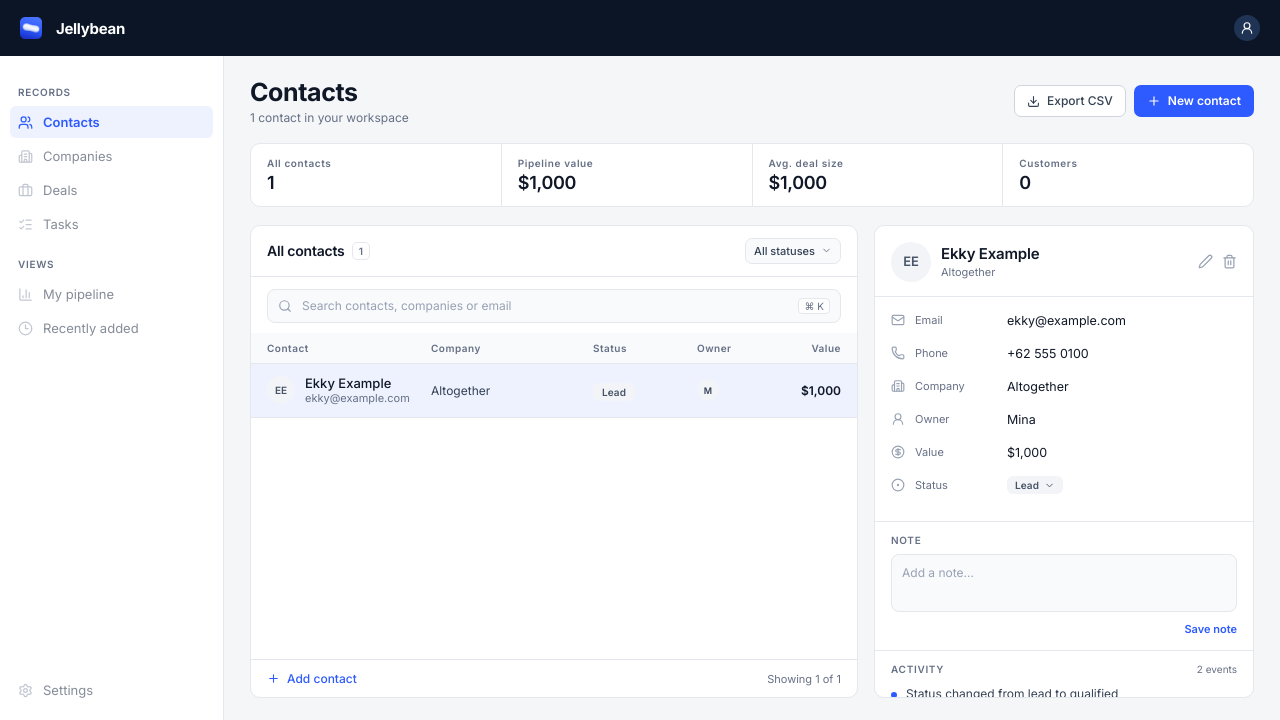
Dashboard feedback contract › keeps the contact listed and shows no confirmation while a delete is pending
Click the button named "Delete contact" at coordinates (1230, 262), box [1222, 254, 1237, 269]
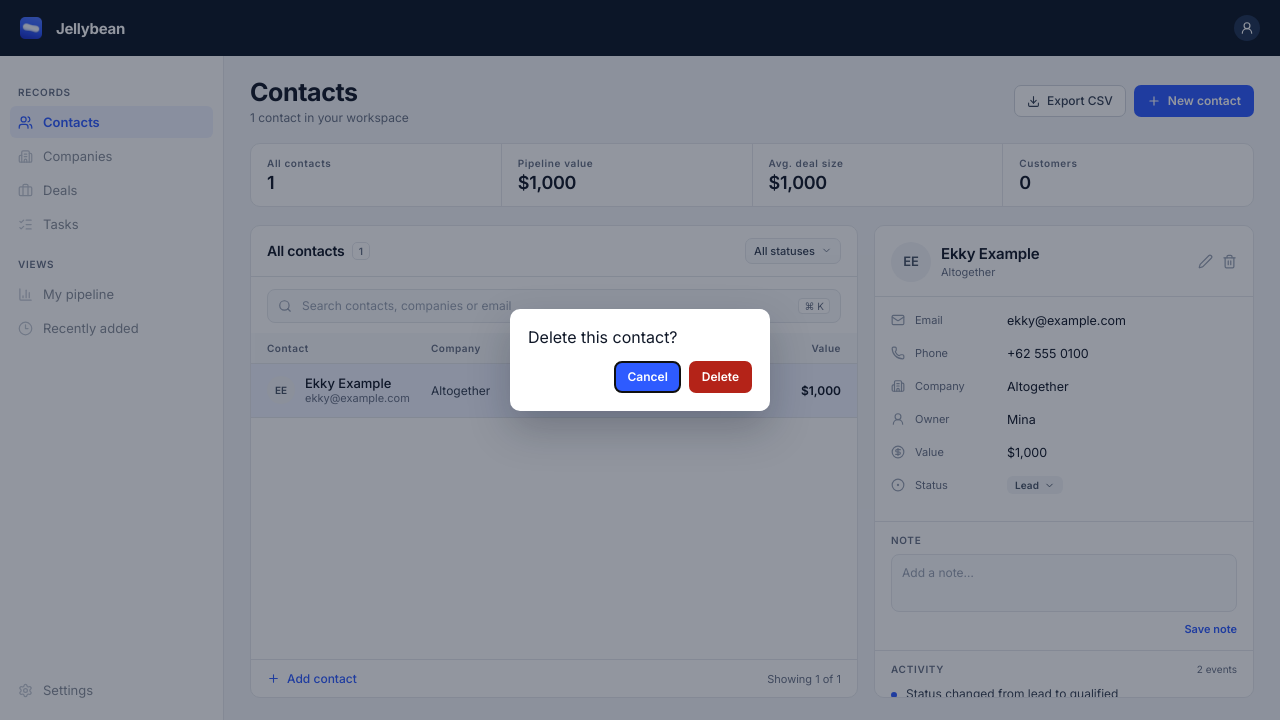
Click the button "Delete" at coordinates (720, 377), box [689, 361, 752, 393]
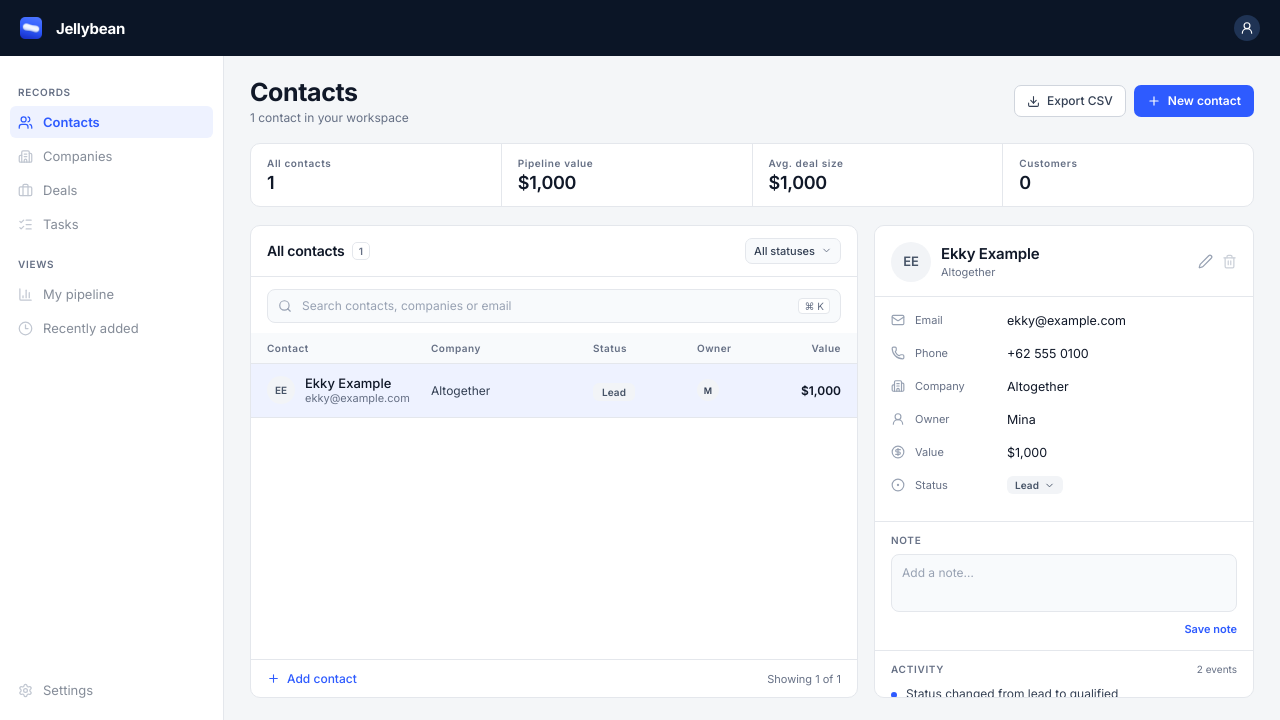
Check: the text "Ekky Example" is shown, box [305, 375, 391, 391]
Check: the button named "Delete contact" is disabled, box [1222, 254, 1237, 269]
